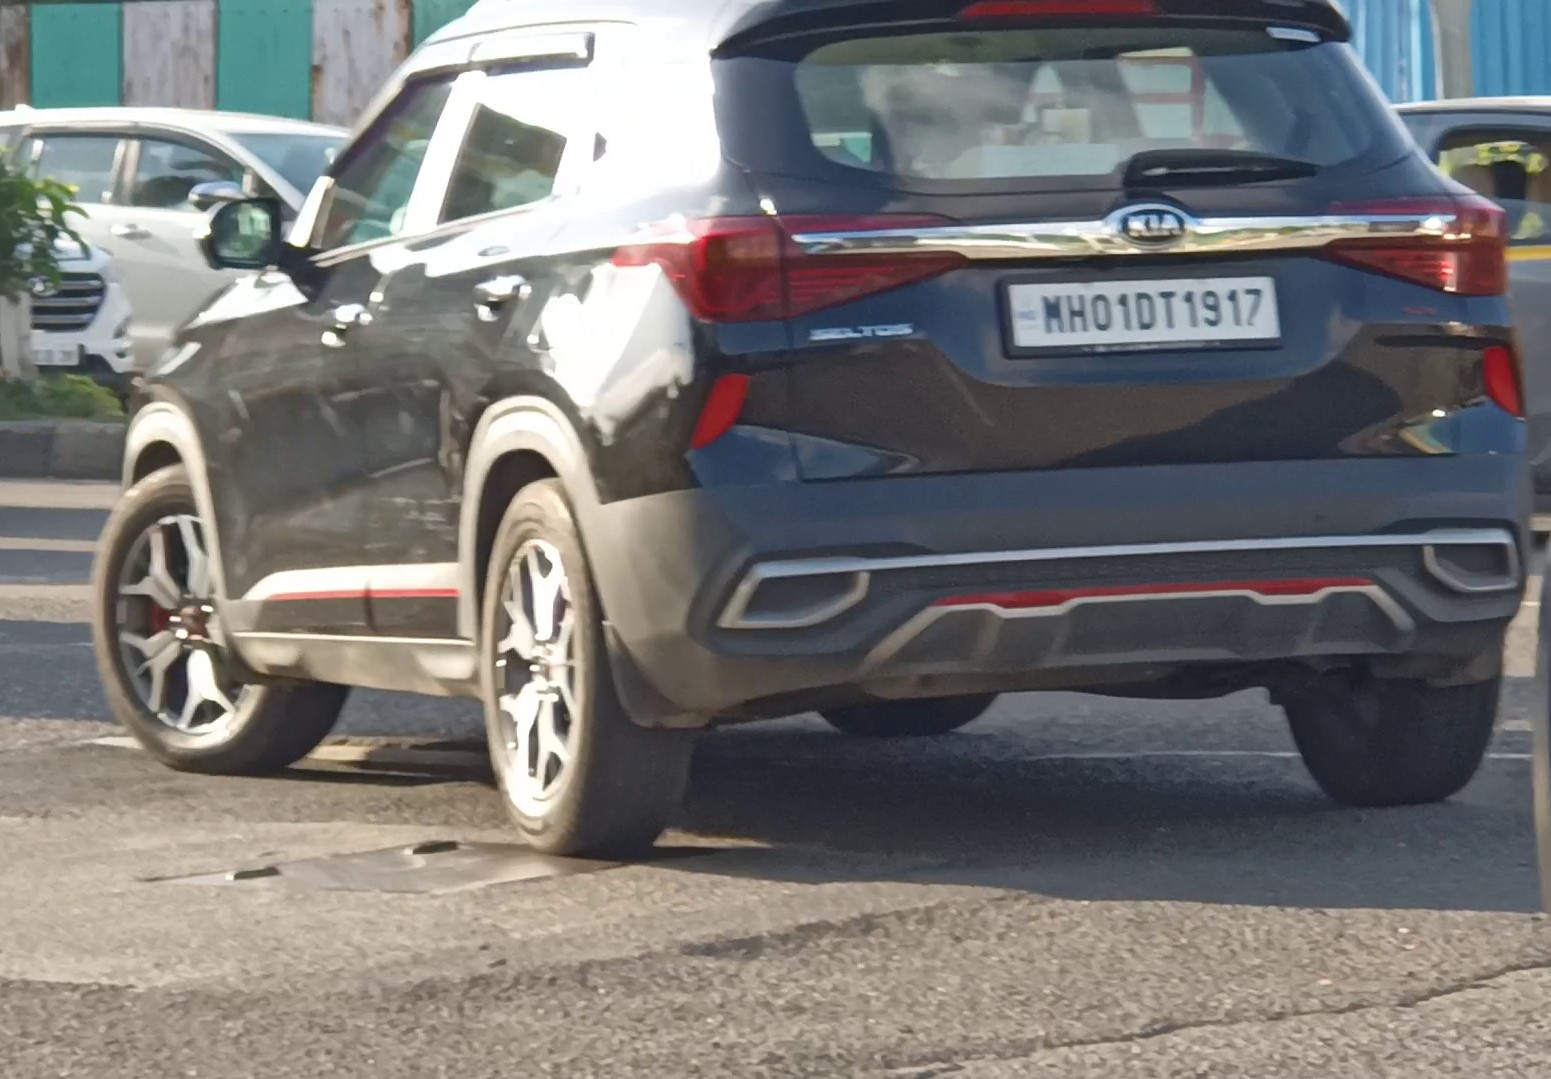MH01DT1917: (1000, 274, 1283, 348)
